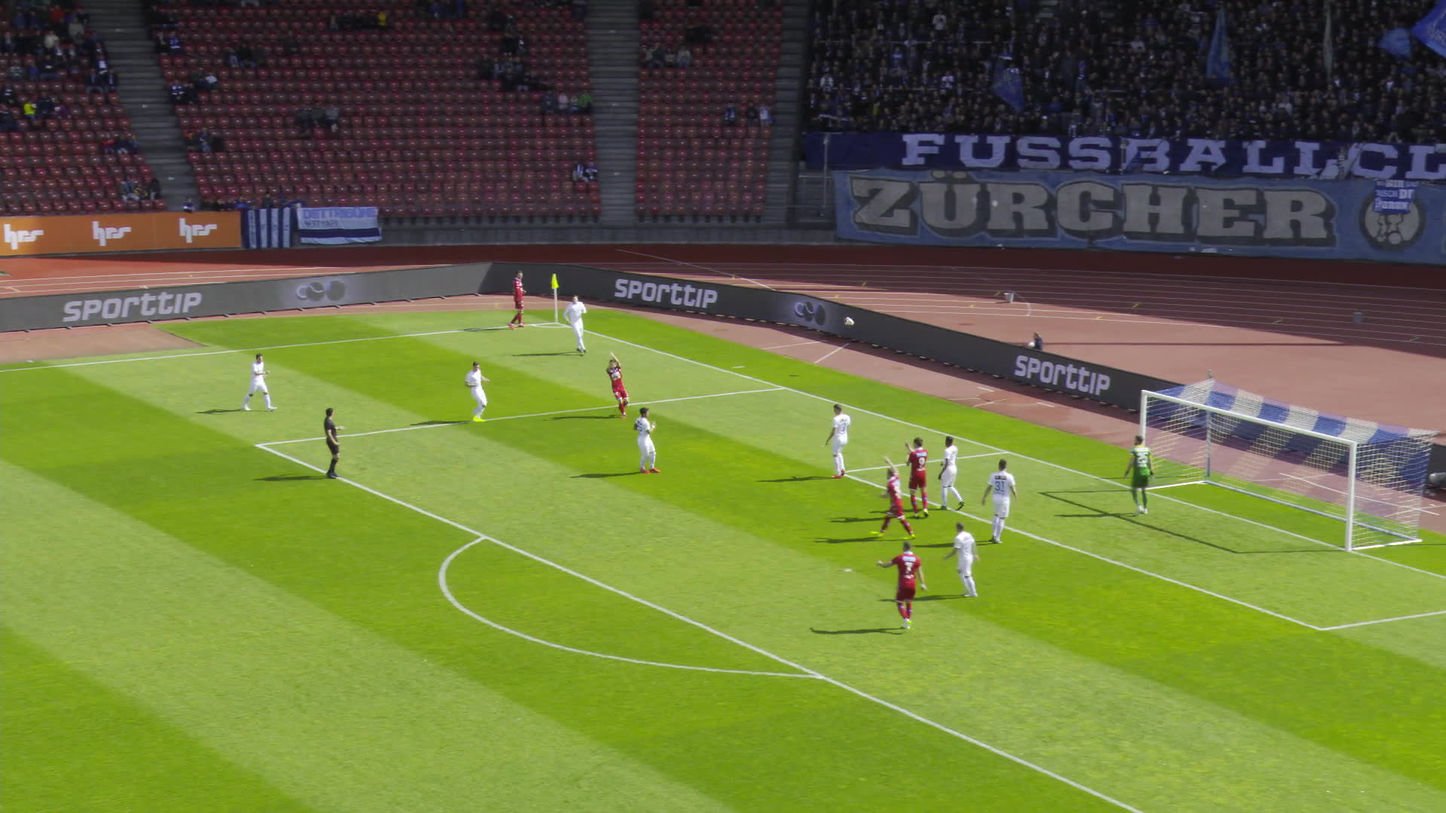ball: (837, 315, 850, 324)
player: (878, 541, 930, 635), (984, 458, 1023, 541), (947, 522, 989, 598), (877, 455, 914, 539), (1124, 434, 1158, 516), (907, 437, 940, 514), (932, 435, 964, 509), (823, 403, 853, 477), (629, 405, 660, 473), (461, 360, 494, 421), (603, 349, 630, 418), (245, 352, 276, 411), (562, 297, 590, 353), (511, 270, 531, 328)
referee: (322, 407, 347, 477)
